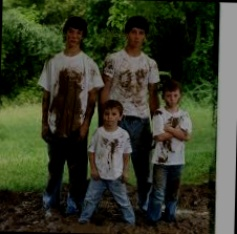earth: (58, 71, 81, 131), (122, 69, 148, 100), (109, 138, 119, 158), (171, 116, 180, 126), (158, 157, 169, 162), (168, 140, 171, 153)
